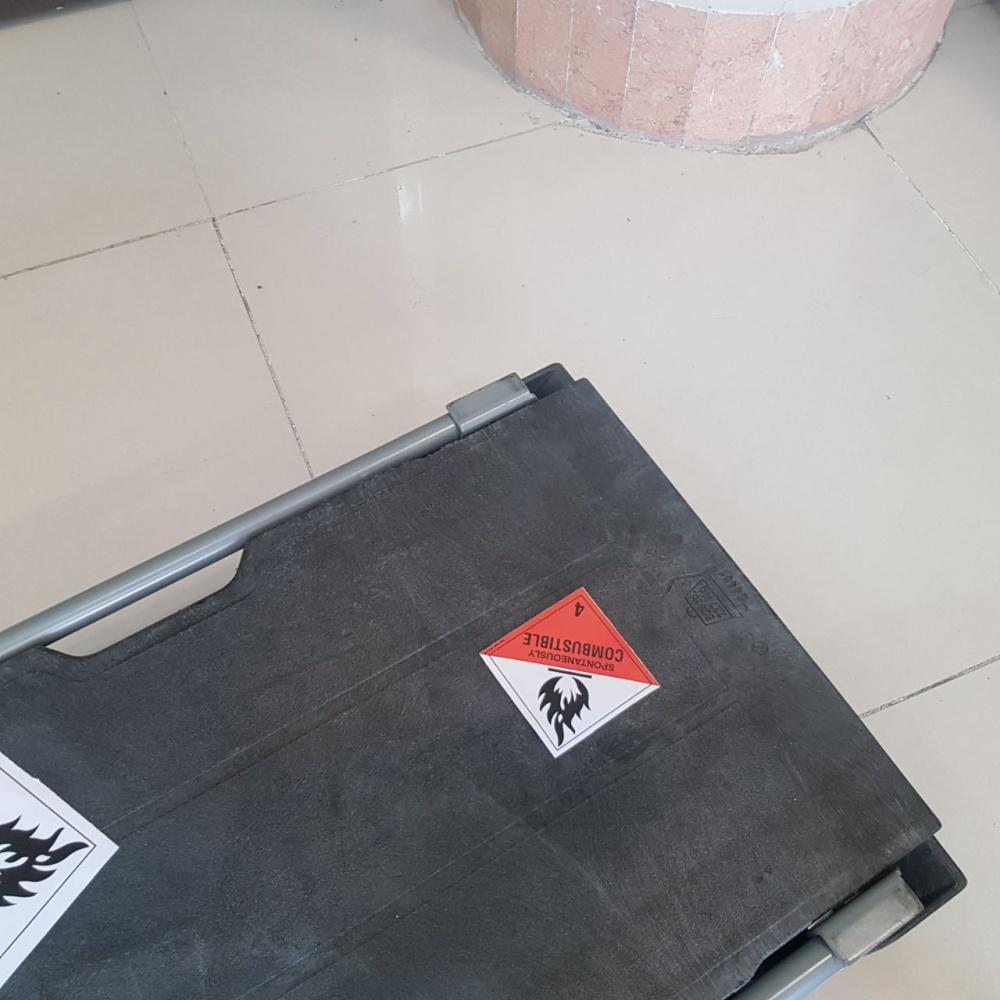spontaneously-combustible: (481, 587, 658, 760)
